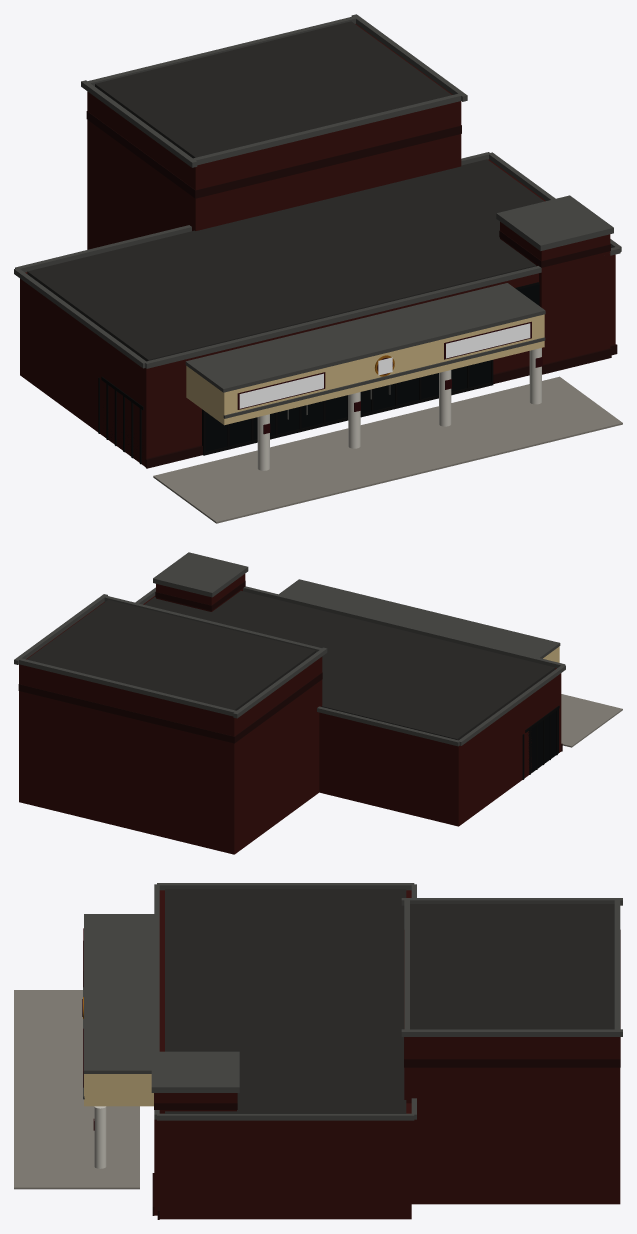
The model's file is south-windsor-high-school.obj.
3 views of the same model, one above another, from view 1: azimuth 30°, elevation 25°; view 2: azimuth 150°, elevation 25°; view 3: azimuth 270°, elevation 25° (orthographic). The views are drawn at different scales.
Parts seen in each view (by area): view 1: wing_roof_3, gym_brick_8, gym_roof_9, paving_apron_1, wing_brick_2, canopy_top_slab_24, corner_pier_15, entry_glass_wall_28, canopy_fascia_21, corner_pier_cap_16, gym_band_brick_14, wing_coping_front_4 (+16 smaller); view 2: gym_brick_8, wing_roof_3, wing_brick_2, gym_roof_9, canopy_top_slab_24, corner_pier_cap_16, gym_band_brick_14, wing_coping_front_4, paving_apron_1, gym_coping_back_13, west_glass_bay_49, wing_coping_back_7 (+6 smaller); view 3: wing_roof_3, gym_brick_8, wing_brick_2, gym_roof_9, paving_apron_1, canopy_top_slab_24, corner_pier_cap_16, gym_band_brick_14, wing_coping_right_6, wing_coping_left_5, gym_coping_right_12, corner_pier_15 (+8 smaller).
Part boxes in pixels (box(x1,y1,x2,y2)): wing_roof_3: box(27, 159, 544, 361); gym_brick_8: box(87, 24, 461, 249); gym_roof_9: box(95, 21, 451, 158); paving_apron_1: box(153, 376, 622, 523); wing_brick_2: box(20, 159, 615, 466); canopy_top_slab_24: box(185, 283, 545, 392); corner_pier_15: box(500, 222, 610, 364); entry_glass_wall_28: box(205, 360, 490, 451); canopy_fascia_21: box(221, 314, 544, 416); corner_pier_cap_16: box(496, 195, 613, 250); gym_band_brick_14: box(86, 111, 461, 198); wing_coping_front_4: box(144, 247, 620, 368); gym_brick_8: box(19, 601, 322, 854); wing_roof_3: box(144, 591, 555, 740); wing_brick_2: box(143, 596, 561, 826); gym_roof_9: box(27, 599, 315, 710); canopy_top_slab_24: box(279, 579, 560, 658); corner_pier_cap_16: box(153, 552, 248, 597); gym_band_brick_14: box(18, 672, 322, 743); wing_coping_front_4: box(243, 586, 565, 668); paving_apron_1: box(561, 694, 622, 747); gym_coping_back_13: box(17, 658, 237, 716); west_glass_bay_49: box(528, 709, 558, 773); wing_coping_back_7: box(317, 706, 459, 746); wing_roof_3: box(165, 889, 406, 1113); gym_brick_8: box(404, 1037, 620, 1204); wing_brick_2: box(159, 890, 411, 1219); gym_roof_9: box(410, 904, 614, 1029); paving_apron_1: box(14, 990, 139, 1189); canopy_top_slab_24: box(84, 914, 154, 1073); corner_pier_cap_16: box(151, 1051, 239, 1092); gym_band_brick_14: box(404, 930, 620, 1067); wing_coping_right_6: box(157, 1113, 414, 1120); wing_coping_left_5: box(157, 883, 414, 890); gym_coping_right_12: box(401, 1029, 622, 1036); corner_pier_15: box(154, 1093, 236, 1215).
Size of the model in its own units: 30.6 by 10.82 by 33.85.
